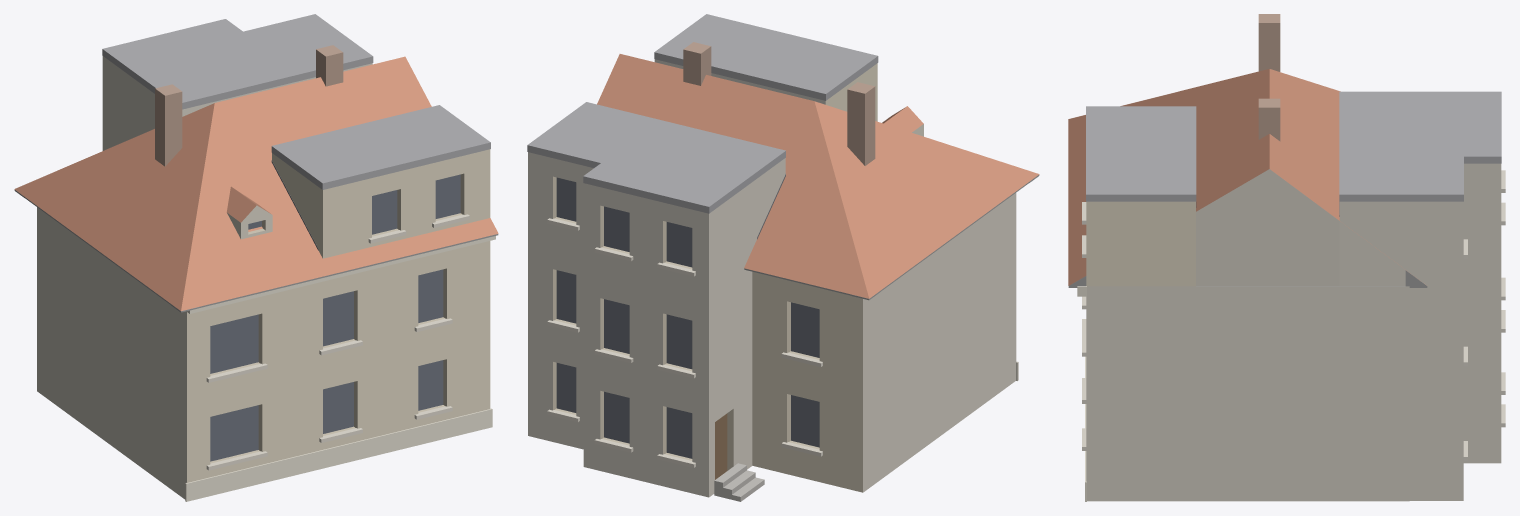
The picture shows the model from 3 angles, left to right: view 1: azimuth 30°, elevation 25°; view 2: azimuth 150°, elevation 25°; view 3: azimuth 270°, elevation 25°; orthographic projection. The views are drawn at different scales.
Parts seen in each view (by area): view 1: CP_1914_Masonry, CP_1914_Roof, CP_1914_WingRoof_vol_mansard_rear, CP_1914_Vol_mansard_front_Masonry, CP_1914_WingRoof_vol_mansard_front, CP_1914_Cornice_main_plinth_0, CP_1914_Vol_mansard_rear_Masonry, CP_1914_Chimney_0, CP_1914_Dormer_d1, CP_1914_Cornice_main_eave_0, CP_1914_Chimney_1, CP_1914_Roof_EaveClosure_2; view 2: CP_1914_Vol_mansard_rear_Masonry, CP_1914_Masonry, CP_1914_Roof, CP_1914_WingRoof_vol_mansard_rear, CP_1914_WingRoof_vol_mansard_front, CP_1914_Chimney_0, CP_1914_Vol_mansard_front_Masonry, CP_1914_Chimney_1, CP_1914_Dormer_d1; view 3: CP_1914_Masonry, CP_1914_Vol_mansard_rear_Masonry, CP_1914_Roof, CP_1914_WingRoof_vol_mansard_rear, CP_1914_AtticClosure, CP_1914_WingRoof_vol_mansard_front, CP_1914_Vol_mansard_front_Masonry, CP_1914_Chimney_0, CP_1914_Chimney_1.
Boxes of the visible parts, <box> form: CP_1914_Masonry: <box>37,207,490,499</box>; CP_1914_Roof: <box>14,56,498,310</box>; CP_1914_WingRoof_vol_mansard_rear: <box>102,14,373,109</box>; CP_1914_Vol_mansard_front_Masonry: <box>272,149,490,258</box>; CP_1914_WingRoof_vol_mansard_front: <box>271,105,490,189</box>; CP_1914_Cornice_main_plinth_0: <box>185,408,492,501</box>; CP_1914_Vol_mansard_rear_Masonry: <box>102,56,372,150</box>; CP_1914_Chimney_0: <box>155,84,182,166</box>; CP_1914_Dormer_d1: <box>226,186,272,239</box>; CP_1914_Cornice_main_eave_0: <box>186,236,495,313</box>; CP_1914_Chimney_1: <box>316,45,343,86</box>; CP_1914_Roof_EaveClosure_2: <box>171,234,498,312</box>; CP_1914_Vol_mansard_rear_Masonry: <box>528,152,785,497</box>; CP_1914_Masonry: <box>752,193,1016,492</box>; CP_1914_Roof: <box>597,54,1039,298</box>; CP_1914_WingRoof_vol_mansard_rear: <box>527,102,785,213</box>; CP_1914_WingRoof_vol_mansard_front: <box>654,14,878,100</box>; CP_1914_Chimney_0: <box>847,82,875,165</box>; CP_1914_Vol_mansard_front_Masonry: <box>654,59,877,121</box>; CP_1914_Chimney_1: <box>683,42,711,85</box>; CP_1914_Dormer_d1: <box>882,106,923,136</box>; CP_1914_Masonry: <box>1086,286,1409,501</box>; CP_1914_Vol_mansard_rear_Masonry: <box>1339,163,1501,500</box>; CP_1914_Roof: <box>1068,69,1425,285</box>; CP_1914_WingRoof_vol_mansard_rear: <box>1339,91,1501,201</box>; CP_1914_AtticClosure: <box>1196,169,1339,285</box>; CP_1914_WingRoof_vol_mansard_front: <box>1086,106,1196,201</box>; CP_1914_Vol_mansard_front_Masonry: <box>1086,201,1195,286</box>; CP_1914_Chimney_0: <box>1258,14,1280,71</box>; CP_1914_Chimney_1: <box>1258,98,1280,141</box>.
Bounding box in the file's own units: 11.05 × 11 × 12.17.
